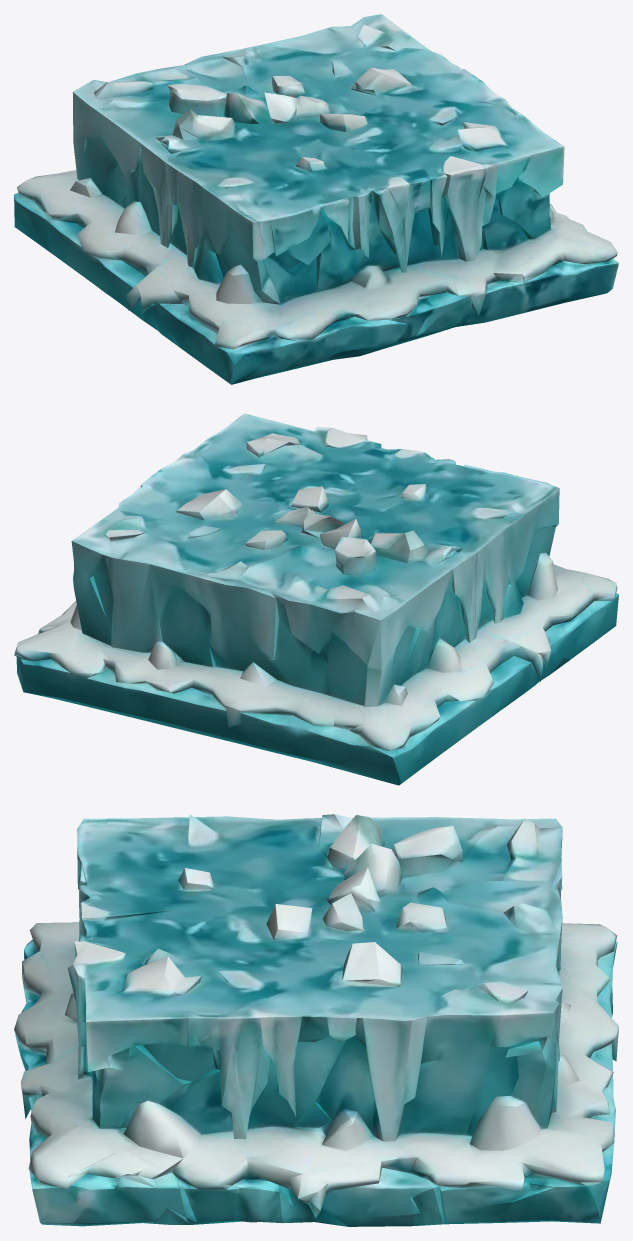
The model's file is m2IcePlatformV2.glb.
The picture shows the model from 3 angles, top to bottom: view 1: azimuth 30°, elevation 25°; view 2: azimuth 150°, elevation 25°; view 3: azimuth 270°, elevation 25°; orthographic projection. The views are drawn at different scales.
Visible parts, largest first — view 1: model; view 2: model; view 3: model.
Part boxes in pixels (x1,y1,x2,y2): model: (14, 14, 618, 384); model: (14, 413, 618, 785); model: (14, 814, 618, 1226).
Bounding box in the file's own units: 1.91 × 0.7316 × 1.8.
1 material, 1 textured.
